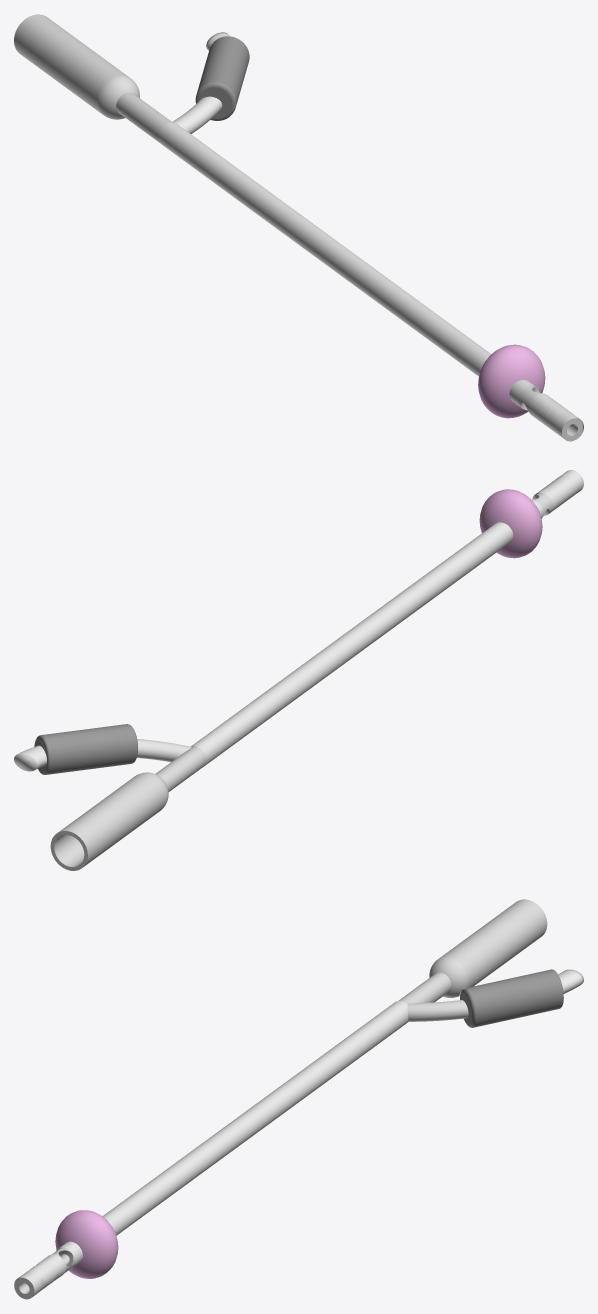
File: R.Catheter.fbx
The picture shows the model from 3 angles, top to bottom: view 1: azimuth 30°, elevation 25°; view 2: azimuth 150°, elevation 25°; view 3: azimuth 330°, elevation 25°; orthographic projection. The views are drawn at different scales.
Visible parts, largest first — view 1: Plane.001, Catheter_design_GUT_MO2.stl, Sphere, Catheter_design_GUT_MO2.stl.002, Plane.002, Cylinder; view 2: Plane.001, Catheter_design_GUT_MO2.stl, Catheter_design_GUT_MO2.stl.002, Sphere, Cylinder, Plane.002; view 3: Plane.001, Catheter_design_GUT_MO2.stl, Catheter_design_GUT_MO2.stl.002, Sphere, Cylinder, Plane.002.
Part boxes in pixels (<box>): Plane.001: <box>159,122,540,406</box>; Catheter_design_GUT_MO2.stl: <box>14,14,582,441</box>; Sphere: <box>478,344,545,418</box>; Catheter_design_GUT_MO2.stl.002: <box>195,36,249,120</box>; Plane.002: <box>528,393,583,441</box>; Cylinder: <box>172,32,229,133</box>; Plane.001: <box>190,499,543,765</box>; Catheter_design_GUT_MO2.stl: <box>50,492,565,870</box>; Catheter_design_GUT_MO2.stl.002: <box>34,724,137,774</box>; Sphere: <box>479,489,542,558</box>; Cylinder: <box>14,739,191,771</box>; Plane.002: <box>532,470,583,512</box>; Plane.001: <box>56,1001,408,1268</box>; Catheter_design_GUT_MO2.stl: <box>14,899,547,1299</box>; Catheter_design_GUT_MO2.stl.002: <box>460,969,563,1027</box>; Sphere: <box>55,1210,118,1278</box>; Cylinder: <box>407,969,583,1021</box>; Plane.002: <box>14,1254,65,1299</box>.
Size of the model in its own units: 469 by 200 by 2813.
